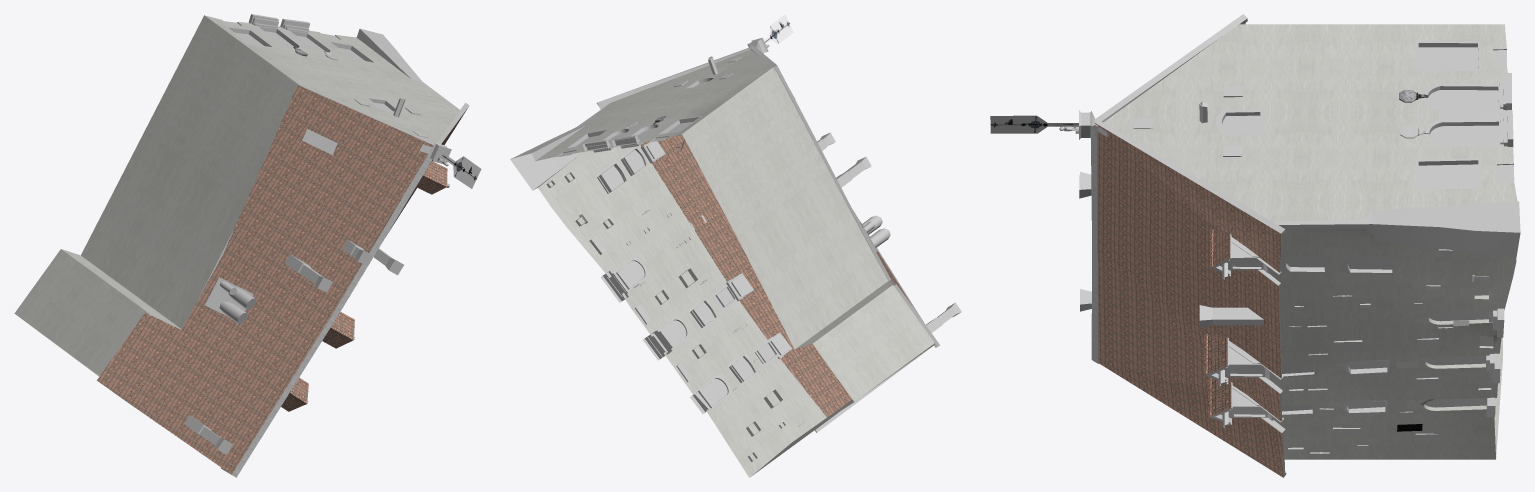
Rendered from Vanaturu_Kael_12.obj.
3 views of the same model, side by side, from view 1: azimuth 30°, elevation 25°; view 2: azimuth 150°, elevation 25°; view 3: azimuth 270°, elevation 25° (orthographic). The views are drawn at different scales.
Visible parts, largest first — view 1: Vanaturu_Kael_12; view 2: Vanaturu_Kael_12; view 3: Vanaturu_Kael_12.
Part boxes in pixels (left/top/right/bottom): Vanaturu_Kael_12: left=14, top=14, right=481, bottom=477; Vanaturu_Kael_12: left=510, top=14, right=961, bottom=477; Vanaturu_Kael_12: left=990, top=14, right=1520, bottom=477.
Bounding box in the file's own units: 29.35 × 28.09 × 26.9.
